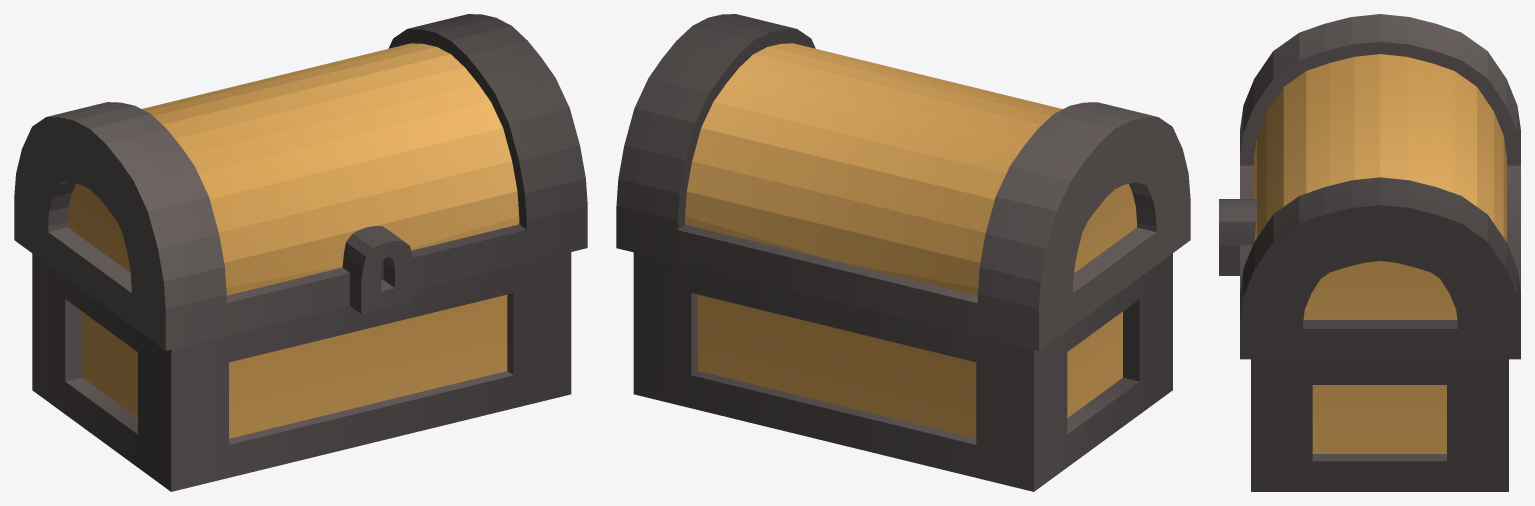
Rendered from Safe Chest 2.fbx.
The picture shows the model from 3 angles, left to right: view 1: azimuth 30°, elevation 25°; view 2: azimuth 150°, elevation 25°; view 3: azimuth 270°, elevation 25°; orthographic projection. The views are drawn at different scales.
Parts seen in each view (by area): view 1: Safe Chest 2; view 2: Safe Chest 2; view 3: Safe Chest 2.
Part boxes in pixels (x1,y1,x2,y2): Safe Chest 2: (14,14,587,491); Safe Chest 2: (616,14,1190,491); Safe Chest 2: (1219,14,1520,491).
Bounding box in the file's own units: 103 × 73.04 × 68.47.
